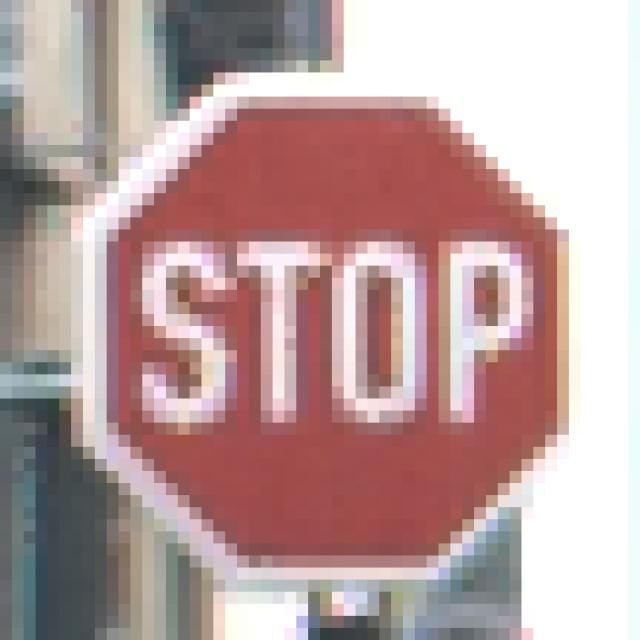STOP: (72, 62, 582, 581)
